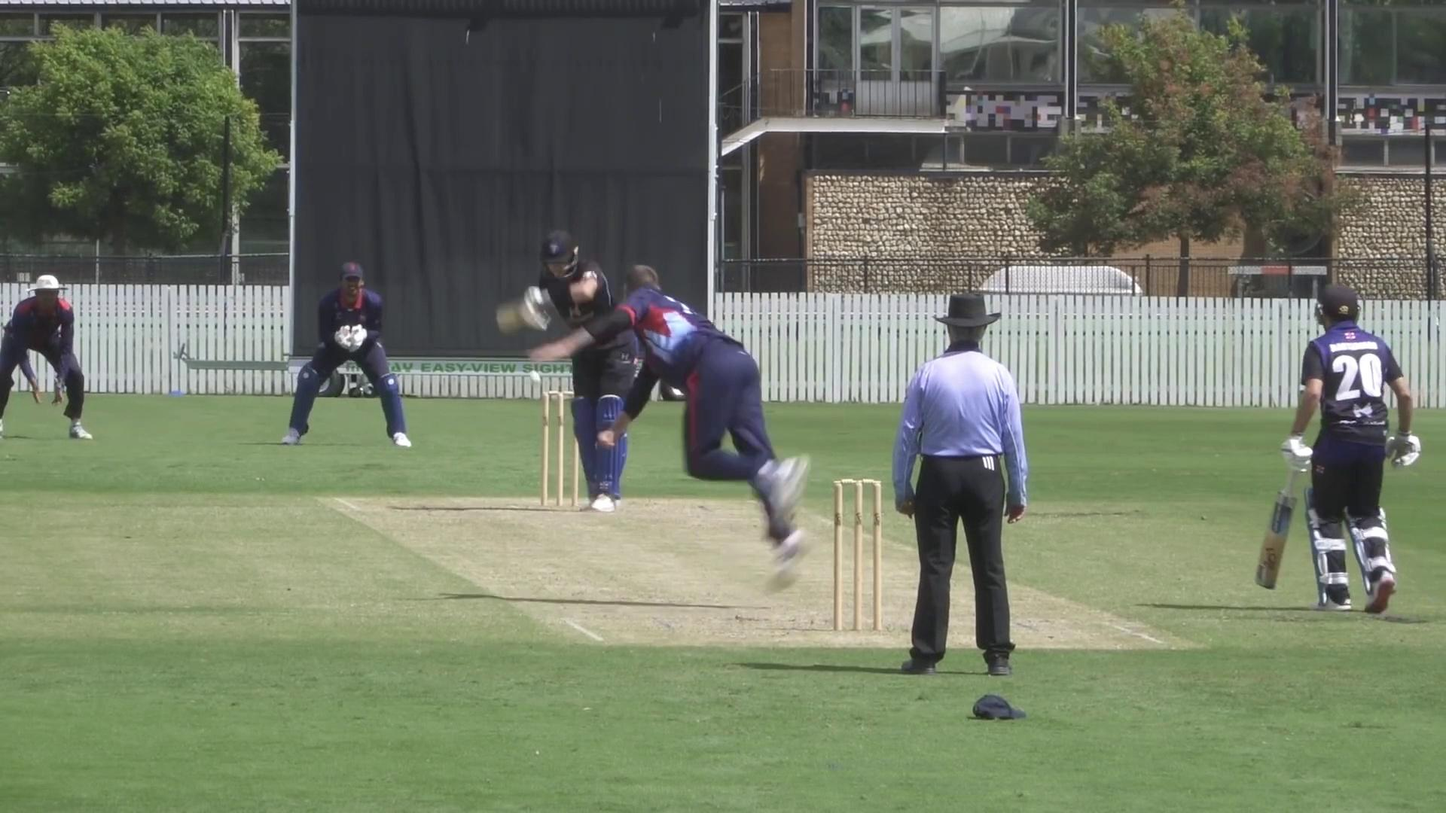ball: (525, 368, 546, 385)
